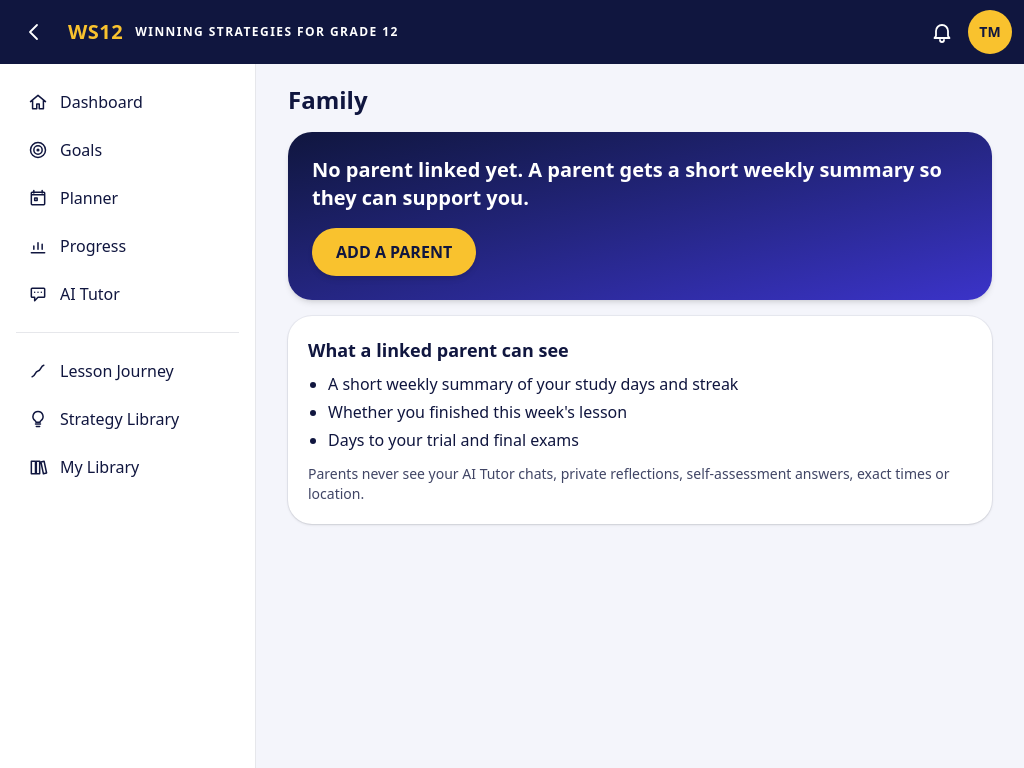
Test: Family for a learner › makes a link to share on WhatsApp
This screenshot has width=1024, height=768.
Click the button "Add a parent": click(394, 252) [312, 228, 476, 276]
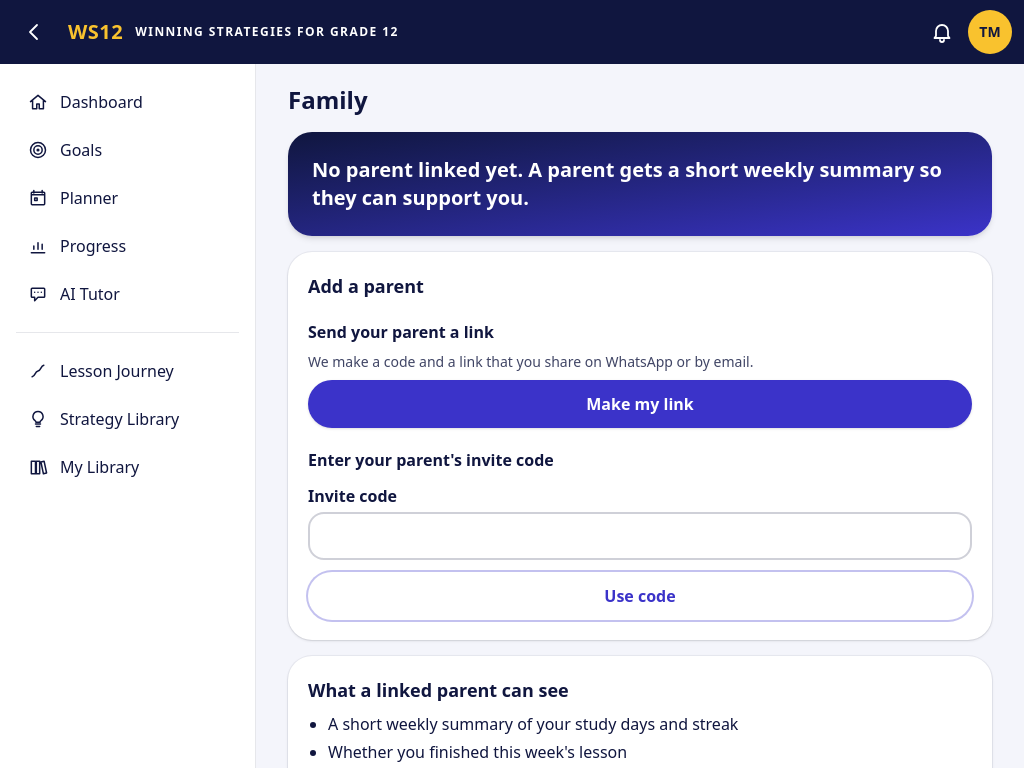
Click the button "Make my link": click(640, 404) [308, 380, 972, 428]
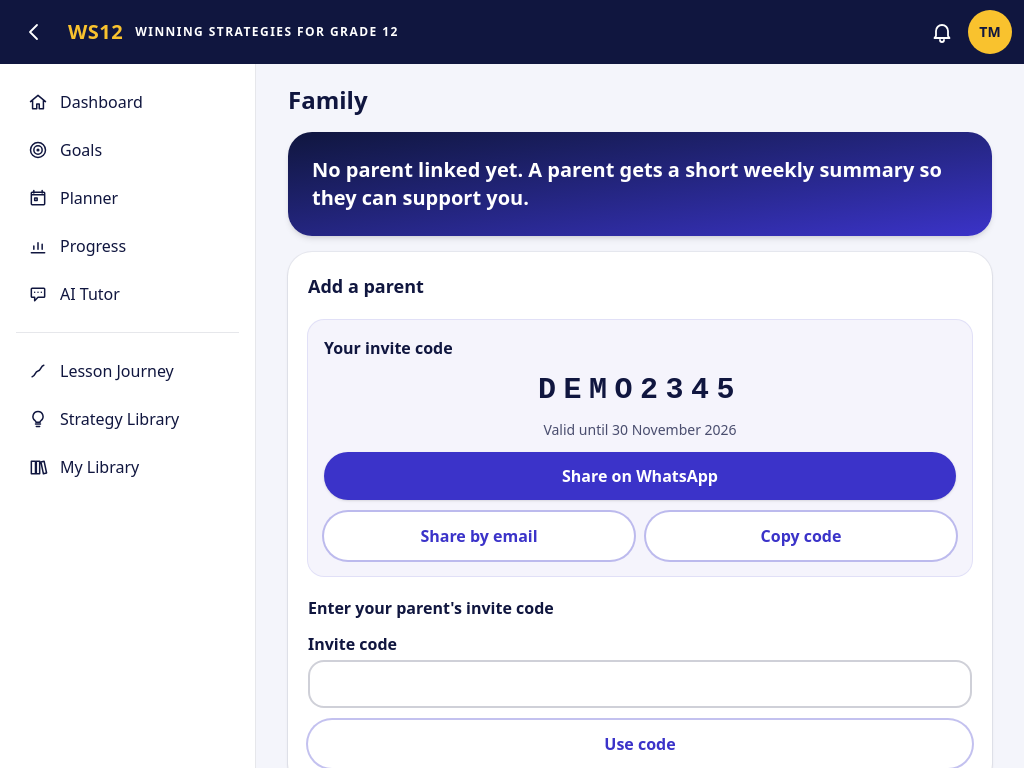
Now the text "DEMO2345" is shown, box [538, 373, 742, 407]
